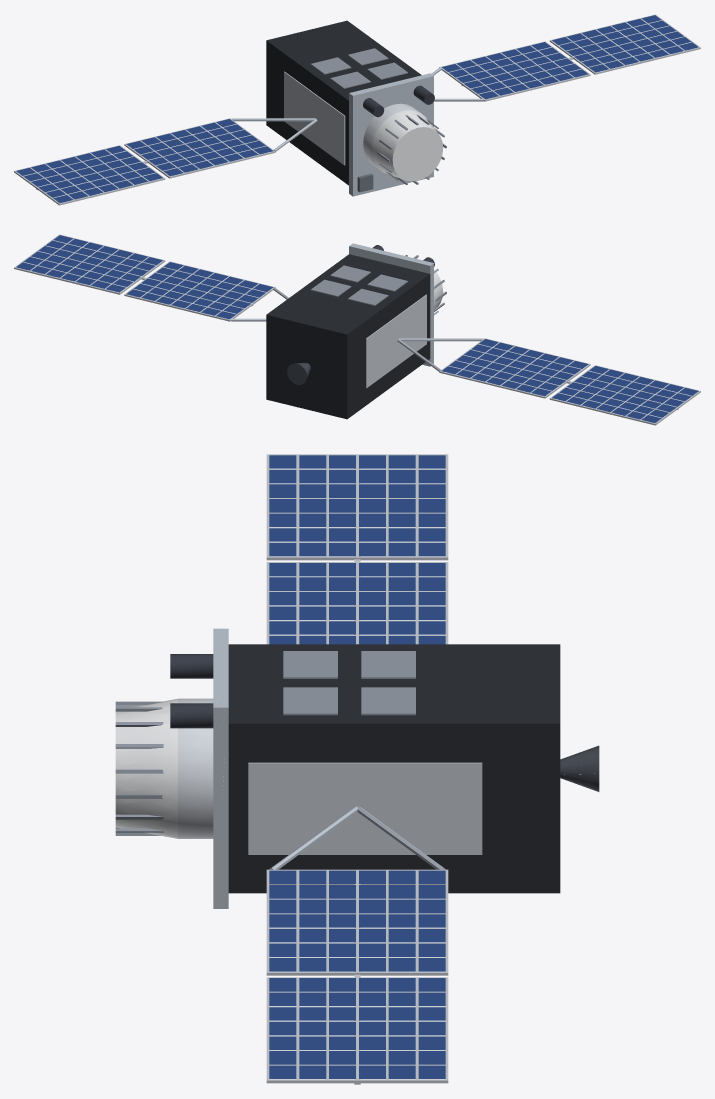
The model's file is michibiki.glb.
3 renders of one model, top to bottom at view 1: azimuth 30°, elevation 25°; view 2: azimuth 150°, elevation 25°; view 3: azimuth 270°, elevation 25°, orthographic. The views are drawn at different scales.
Visible parts, largest first — view 1: body, solar-panel; view 2: body, solar-panel; view 3: body, solar-panel.
Part boxes in pixels (bbox=[...]): body: bbox=[14, 14, 700, 205]; solar-panel: bbox=[16, 15, 698, 202]; body: bbox=[14, 234, 700, 425]; solar-panel: bbox=[16, 235, 698, 422]; body: bbox=[115, 454, 599, 1084]; solar-panel: bbox=[269, 455, 445, 1078].
Bounding box in the file's own units: 19 × 2.85 × 6.2.
